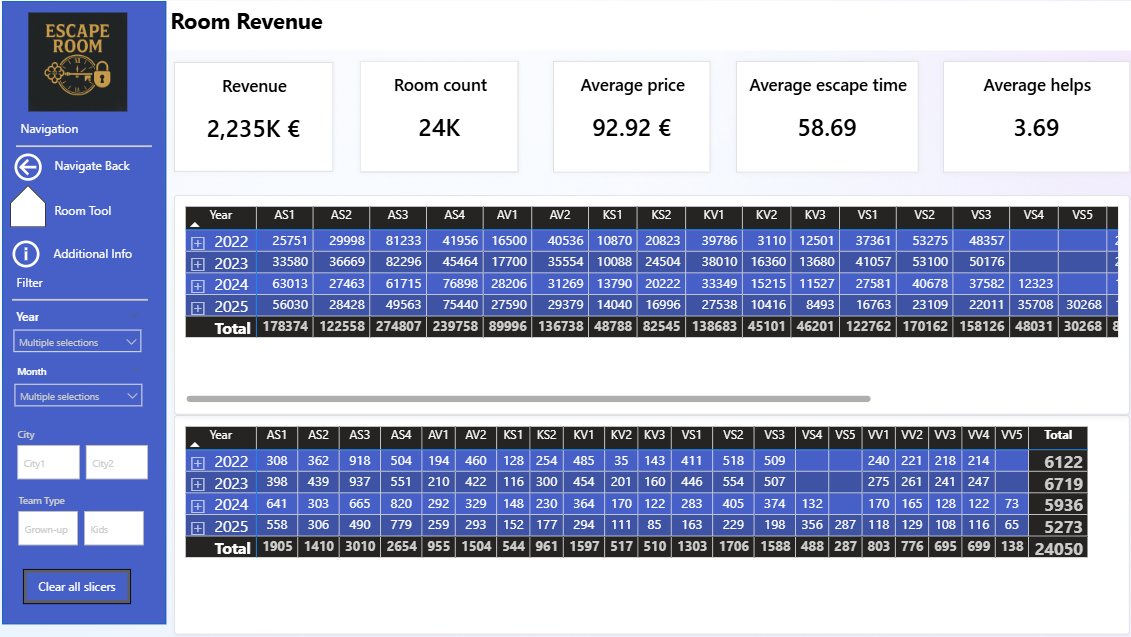

What the dashboard file says about the page in this screenshot:
{"tool":"powerbi","page":{"name":"Room Revenue","canvas":[1280,720],"ordinal":2},"visuals":[{"type":"textbox","box":[187.5,8.8,1092.5,55],"z":1000},{"type":"shape","box":[5,8.8,182.5,692.5],"z":3000},{"type":"shape","box":[21.3,156.8,151.1,27.1],"z":4000},{"type":"shape","box":[16.8,319.2,151.1,44],"z":5000},{"type":"textbox","box":[16.8,307.9,92.5,28.2],"z":6000},{"type":"textbox","box":[21.3,136.5,92.5,29.3],"z":7000},{"type":"slicer","fields":{"Values":["full_data.Data.Variation.Date Hierarchy.Year"]},"box":[13.4,349.6,152.2,56.4],"z":8000},{"type":"slicer","fields":{"Values":["full_data.Data.Variation.Date Hierarchy.Month"]},"box":[14.5,412.8,152.2,56.4],"z":9000},{"type":"advancedSlicerVisual","title":"City","fields":{"Values":["full_data.City"]},"box":[17.9,482.7,156.8,63.2],"z":10000},{"type":"advancedSlicerVisual","title":"Team Type","fields":{"Values":["full_data.TeamType"]},"box":[19,556,150,63.2],"z":11000},{"type":"actionButton","box":[13.9,172.8,46.6,40.3],"z":12000},{"type":"actionButton","box":[12.6,270,45.6,40],"z":13000},{"type":"textbox","box":[58.7,178.2,120.9,28.7],"z":14000},{"type":"textbox","box":[58.7,227.5,120.9,28.7],"z":15000},{"type":"textbox","box":[58.2,275.6,121.1,27.8],"z":16000},{"type":"actionButton","box":[29.1,640.3,120,38.5],"z":17000},{"type":"pageNavigator","box":[14.9,213.3,40,47.8],"z":18000},{"type":"image","box":[27.5,16.2,123.8,120],"z":19000},{"type":"card","title":"Room count","fields":{"Values":["full_data.Count_Kambarys"]},"box":[403.8,75.6,176.2,123.8],"z":20000},{"type":"card","title":"Average escape time","fields":{"Values":["Avg(full_data.Escape Time)"]},"box":[821.2,75.6,202.5,123.8],"z":21000},{"type":"card","title":"Average helps","fields":{"Values":["Avg(full_data.Helps)"]},"box":[1051.2,75.6,207.5,123.8],"z":22000},{"type":"card","title":"Revenue","fields":{"Values":["Sum(full_data.Revenue)"]},"box":[196.7,76.7,176.7,122.2],"z":23000},{"type":"card","title":"Average price","fields":{"Values":["full_data.Average Price"]},"box":[617.5,75.6,175,123.8],"z":24000},{"type":"pivotTable","fields":{"Values":["full_data.Count_Kambarys"],"Rows":["full_data.Data.Variation.Date Hierarchy.Year","full_data.Data.Variation.Date Hierarchy.Quarter","full_data.Data.Variation.Date Hierarchy.Month","full_data.Data.Variation.Date Hierarchy.Day"],"Columns":["full_data.Room type"]},"box":[196.7,468.9,1062.2,244.4],"z":24001},{"type":"pivotTable","fields":{"Values":["Sum(full_data.Revenue)"],"Rows":["full_data.Data.Variation.Date Hierarchy.Year","full_data.Data.Variation.Date Hierarchy.Quarter","full_data.Data.Variation.Date Hierarchy.Month","full_data.Data.Variation.Date Hierarchy.Day"],"Columns":["full_data.Room type"]},"box":[196.7,224.4,1062.2,244.4],"z":24002}]}

Visuals, with their boxes on the page's 1280x720 design canvas (x1, y1, x2, y2). These are canvas units, not pixel positions in the 1131x637 screenshot, which may show the page scaled, cropped or inside an application window:
textbox: [188, 9, 1280, 64]
shape: [5, 9, 188, 701]
shape: [21, 157, 172, 184]
shape: [17, 319, 168, 363]
textbox: [17, 308, 109, 336]
textbox: [21, 136, 114, 166]
slicer - full_data.Data.Variation.Date Hierarchy.Year: [13, 350, 166, 406]
slicer - full_data.Data.Variation.Date Hierarchy.Month: [14, 413, 167, 469]
"City" advancedSlicerVisual: [18, 483, 175, 546]
"Team Type" advancedSlicerVisual: [19, 556, 169, 619]
actionButton: [14, 173, 60, 213]
actionButton: [13, 270, 58, 310]
textbox: [59, 178, 180, 207]
textbox: [59, 228, 180, 256]
textbox: [58, 276, 179, 303]
actionButton: [29, 640, 149, 679]
pageNavigator: [15, 213, 55, 261]
image: [28, 16, 151, 136]
"Room count" card: [404, 76, 580, 199]
"Average escape time" card: [821, 76, 1024, 199]
"Average helps" card: [1051, 76, 1259, 199]
"Revenue" card: [197, 77, 373, 199]
"Average price" card: [618, 76, 792, 199]
pivotTable - full_data.Count_Kambarys x full_data.Data.Variation.Date Hierarchy.Year: [197, 469, 1259, 713]
pivotTable - Sum(full_data.Revenue) x full_data.Data.Variation.Date Hierarchy.Year: [197, 224, 1259, 469]
